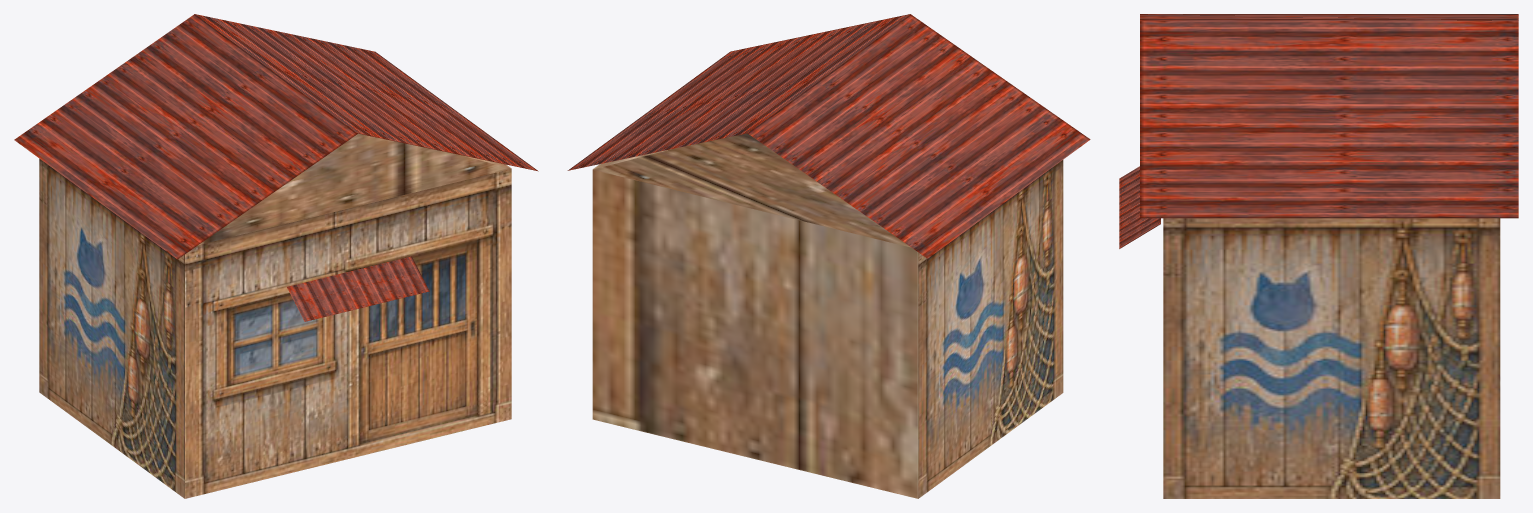
The model's file is nyanisyarud-harbor-hut-far-rust.glb.
3 renders of one model, left to right at view 1: azimuth 30°, elevation 25°; view 2: azimuth 150°, elevation 25°; view 3: azimuth 270°, elevation 25°, orthographic. The views are drawn at different scales.
Parts seen in each view (by area): view 1: 02_fishing_hut_Far_rust; view 2: 02_fishing_hut_Far_rust; view 3: 02_fishing_hut_Far_rust.
Boxes of the visible parts, x1,y1,x2,y2 form: 02_fishing_hut_Far_rust: (14,14,538,498); 02_fishing_hut_Far_rust: (567,14,1090,498); 02_fishing_hut_Far_rust: (1119,14,1518,498).
Size of the model in its own units: 2.08 by 1.83 by 1.72.
1 material, 1 textured.
